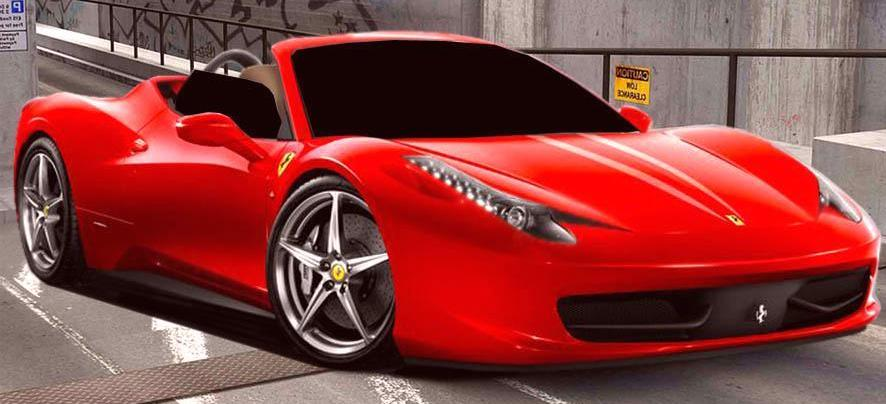front_view: (388, 133, 869, 352)
headlight: (405, 152, 613, 262)
side_glass: (143, 32, 317, 162)
